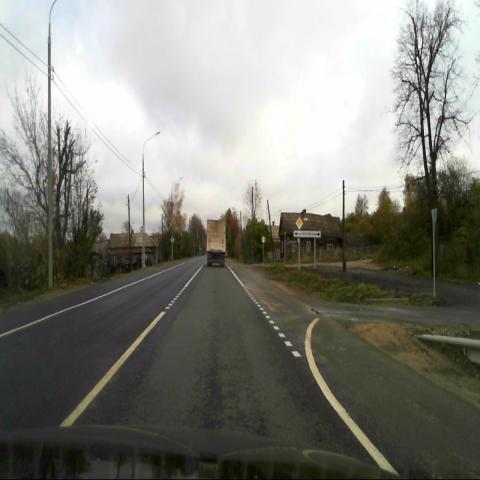2_1: (295, 217, 303, 229)
